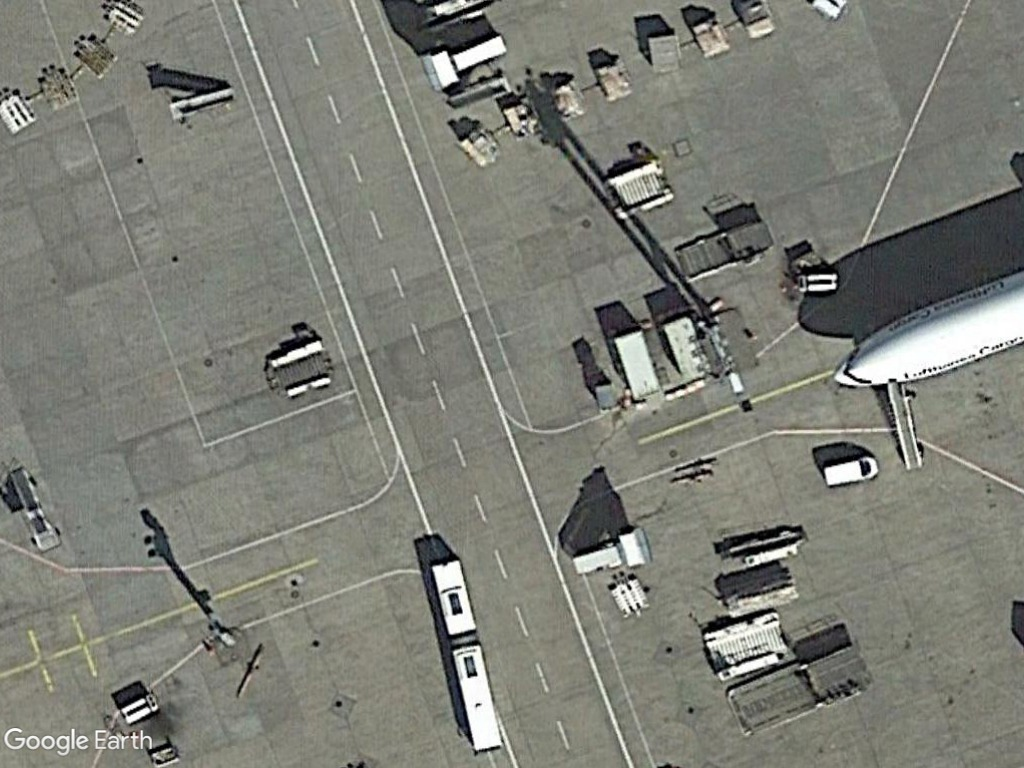bus: (443, 640, 510, 757), (411, 552, 489, 642)
stairtruck: (162, 81, 242, 127)
van: (815, 448, 883, 494)
